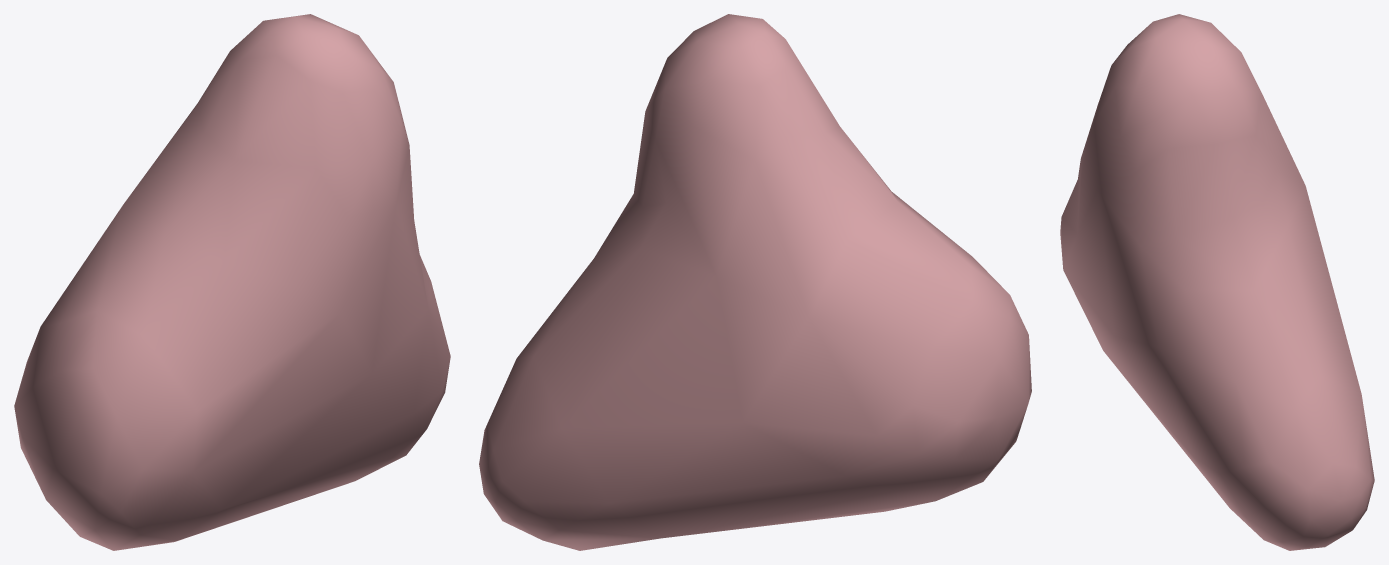
The model's file is fma78434_mm2234.glb.
3 renders of one model, left to right at view 1: azimuth 30°, elevation 25°; view 2: azimuth 150°, elevation 25°; view 3: azimuth 270°, elevation 25°, orthographic. The views are drawn at different scales.
Parts seen in each view (by area): view 1: FMA78434_MM2234; view 2: FMA78434_MM2234; view 3: FMA78434_MM2234.
Boxes of the visible parts, <box> form: FMA78434_MM2234: <box>14,14,450,550</box>; FMA78434_MM2234: <box>479,14,1031,550</box>; FMA78434_MM2234: <box>1060,14,1374,550</box>.
Bounding box in the file's own units: 0.0026 × 0.00274 × 0.00166.
